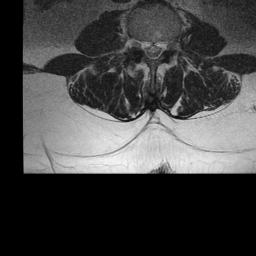CCS_normal: (150, 35, 155, 65)
LFS_normal: (163, 35, 171, 56)
LLS_normal: (155, 37, 163, 60)
RFS_normal: (135, 34, 143, 55)
RLS_normal: (143, 37, 150, 59)
